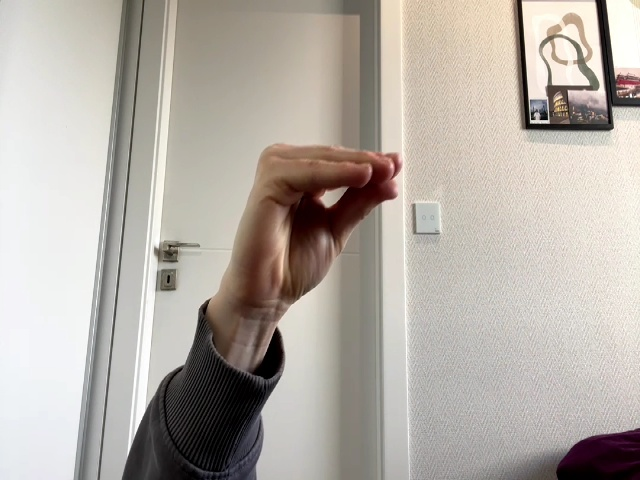E: (225, 143, 402, 320)
